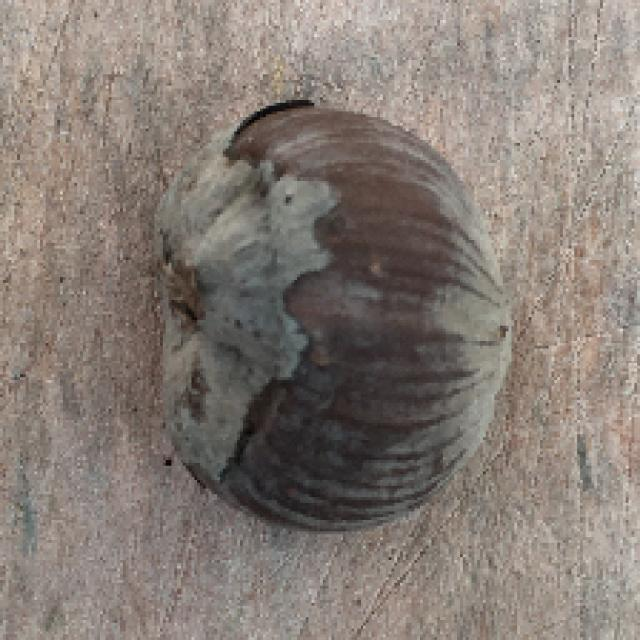damagedHazelnut: (136, 97, 525, 534)
